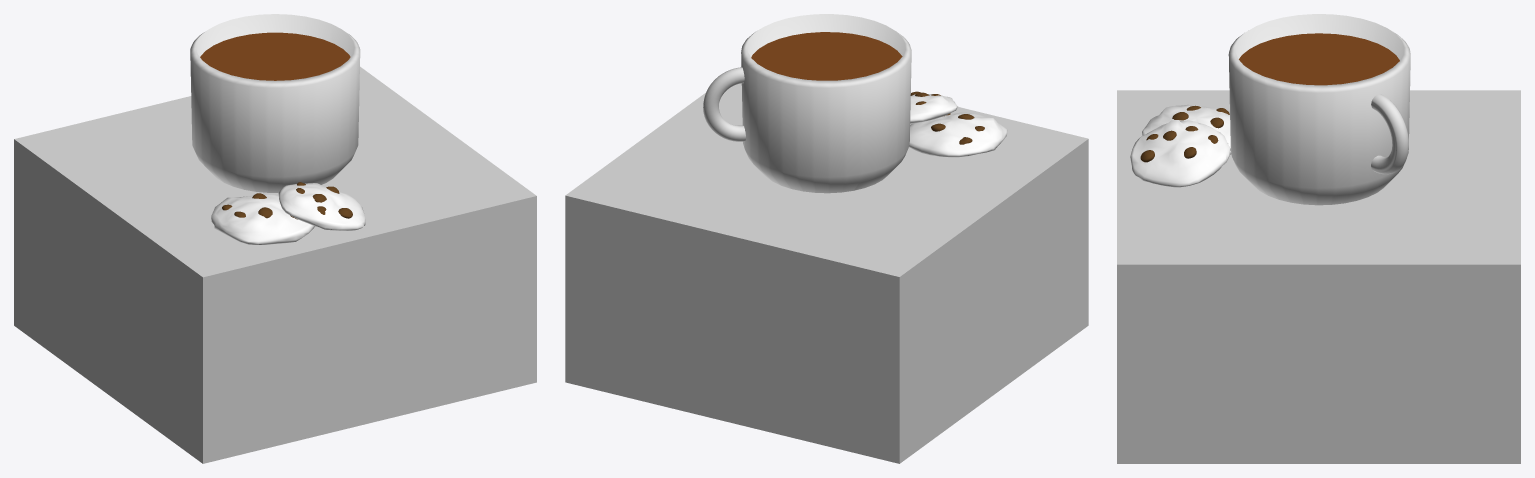
Rendered from Teacup-Model.glb.
3 renders of one model, left to right at view 1: azimuth 30°, elevation 25°; view 2: azimuth 150°, elevation 25°; view 3: azimuth 270°, elevation 25°, orthographic. The views are drawn at different scales.
Visible parts, largest first — view 1: Cube_Cube.002, Cylinder_Cylinder.001, Cylinder.001_Cylinder.002, Sphere.001, Sphere.010_Sphere.011; view 2: Cube_Cube.002, Cylinder_Cylinder.001, Cylinder.001_Cylinder.002, Sphere.001, Torus.001, Sphere.010_Sphere.011; view 3: Cube_Cube.002, Cylinder_Cylinder.001, Cylinder.001_Cylinder.002, Sphere.010_Sphere.011, Torus.001, Sphere.001.
Part boxes in pixels (x1,y1,x2,y2): Cube_Cube.002: (14, 66, 536, 463); Cylinder_Cylinder.001: (190, 14, 360, 192); Cylinder.001_Cylinder.002: (200, 32, 350, 80); Sphere.001: (211, 193, 314, 244); Sphere.010_Sphere.011: (278, 183, 365, 230); Cube_Cube.002: (565, 83, 1088, 463); Cylinder_Cylinder.001: (741, 14, 911, 193); Cylinder.001_Cylinder.002: (751, 32, 902, 80); Sphere.001: (909, 112, 1007, 157); Torus.001: (703, 67, 745, 141); Sphere.010_Sphere.011: (910, 94, 957, 123); Cube_Cube.002: (1117, 90, 1520, 463); Cylinder_Cylinder.001: (1228, 14, 1410, 205); Cylinder.001_Cylinder.002: (1239, 33, 1399, 85); Sphere.010_Sphere.011: (1130, 120, 1230, 187); Torus.001: (1371, 94, 1408, 174); Sphere.001: (1142, 104, 1231, 154).
Size of the model in its own units: 4.5 by 3.95 by 4.41.
